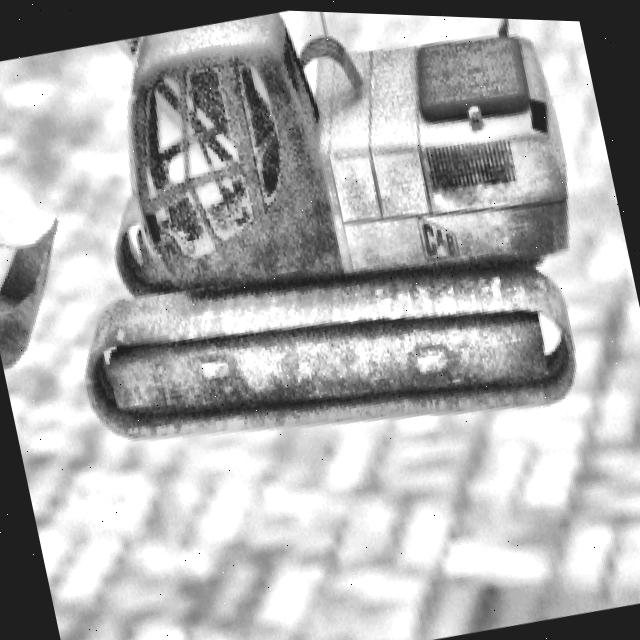excavator: (0, 0, 612, 509)
